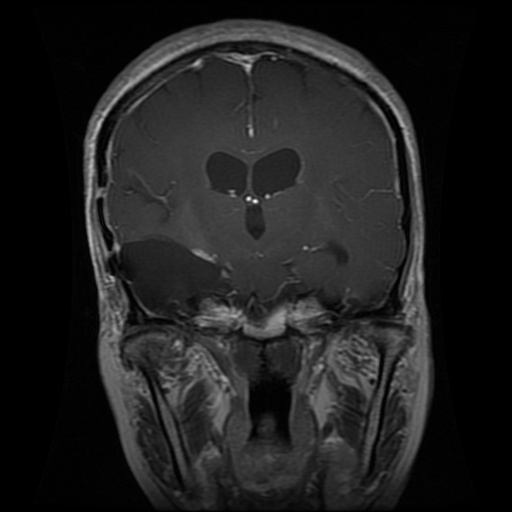glioma: (117, 231, 236, 317)
